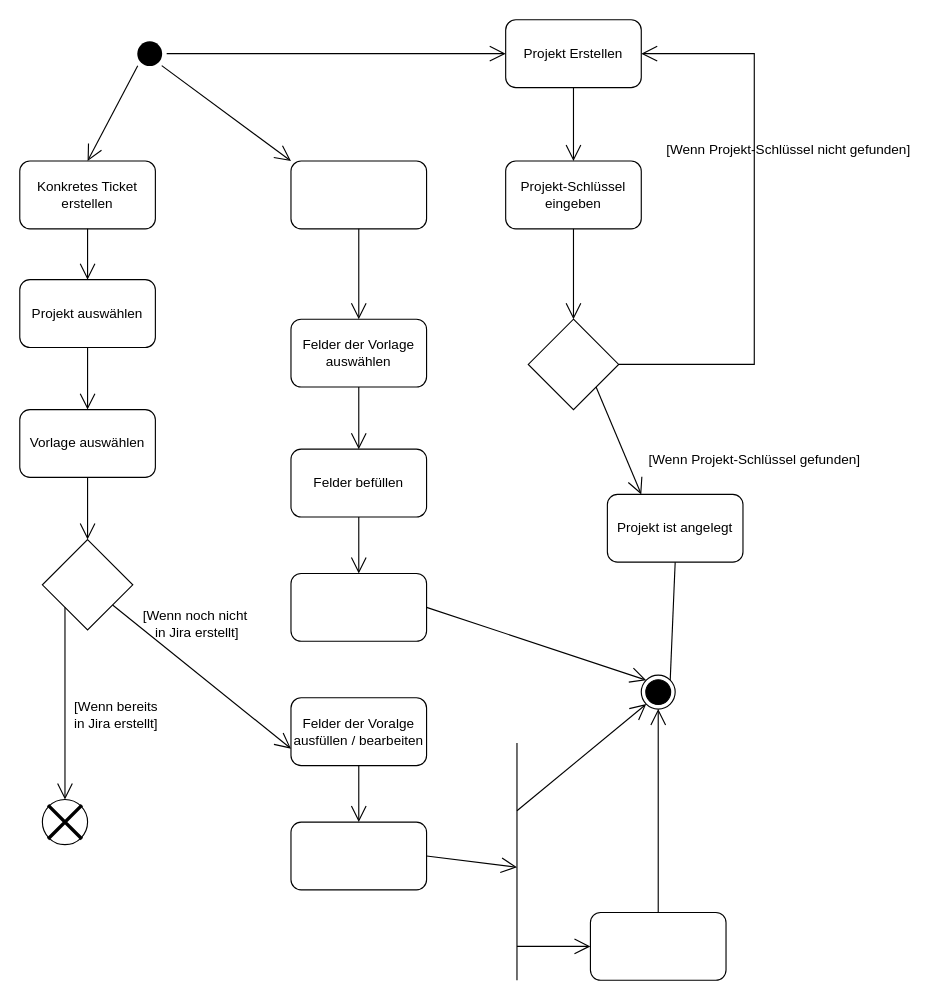
Image size: 938x1001. Some labels were removed from this diagram. The box of each missing label's shape, as (x1, y1, x2, y2) in pixels:
Konkretes Ticket an Jira senden: (589, 911, 726, 980)
Konkretes Ticket ist angelegt / bearbeitet: (290, 821, 427, 890)
Vorlage Erstellen: (290, 160, 427, 229)
Vorlage ist angelegt: (290, 572, 427, 641)
